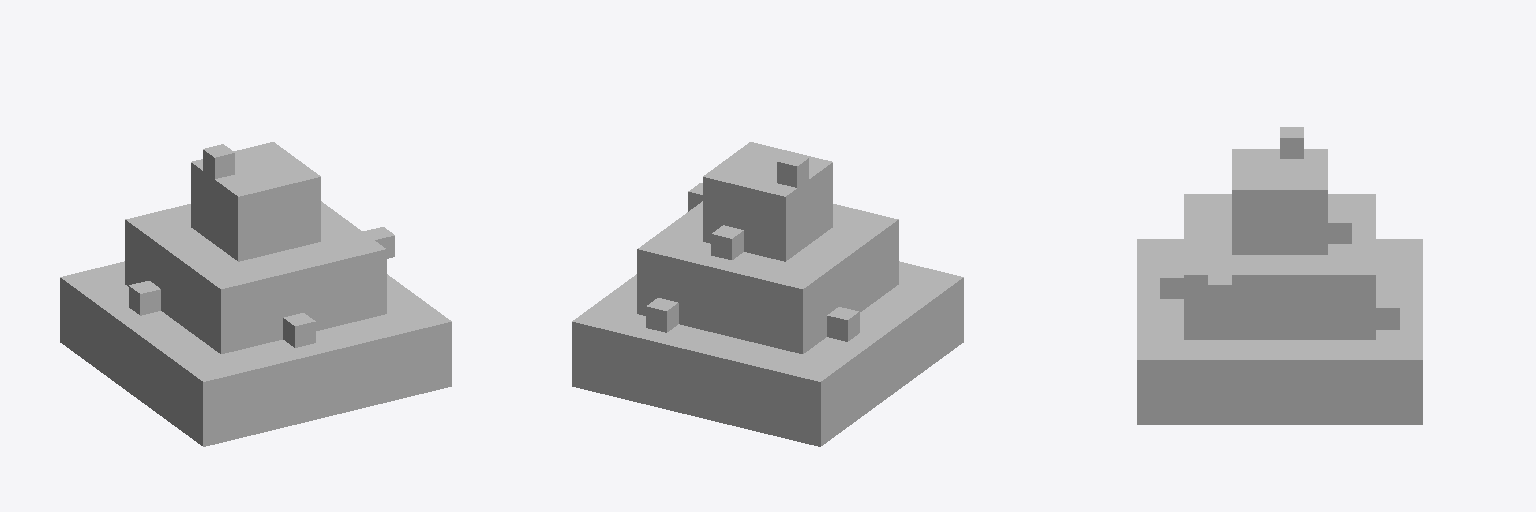
The model's file is poopCorn.obj.
The picture shows the model from 3 angles: view 1: azimuth 30°, elevation 25°; view 2: azimuth 150°, elevation 25°; view 3: azimuth 270°, elevation 25°; orthographic projection.
Size of the model in its own units: 12 by 10 by 12.